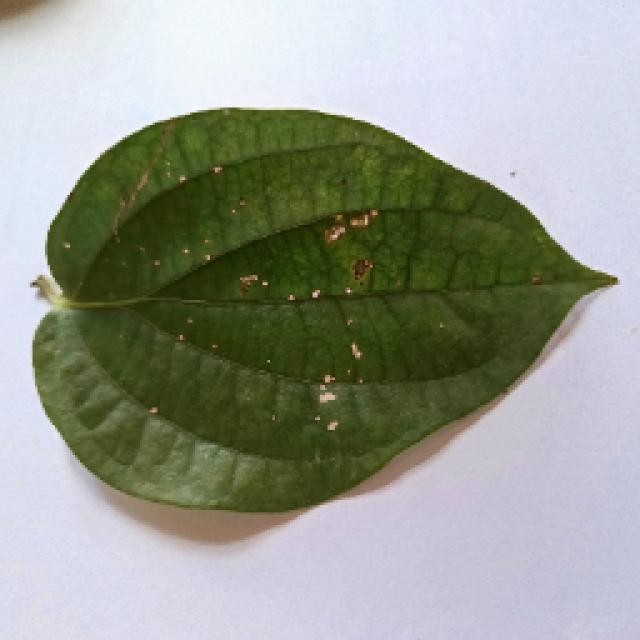pollu-disease: (15, 107, 613, 525)
